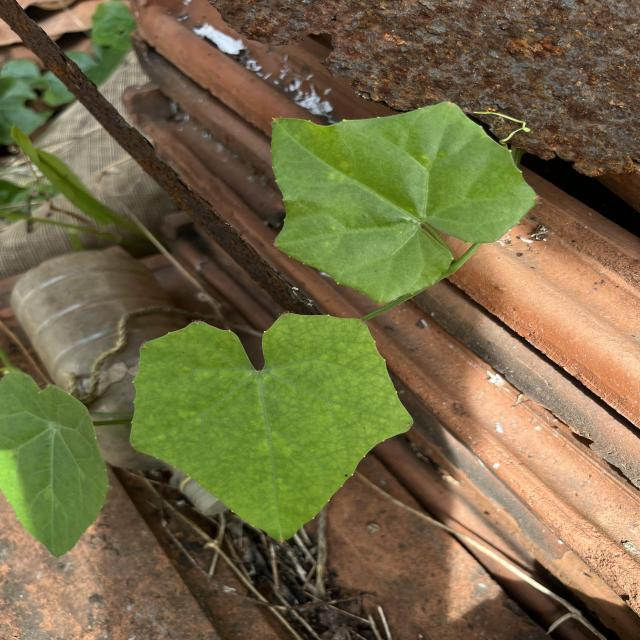Coccinia grandis: (127, 310, 416, 544), (270, 99, 538, 305)
